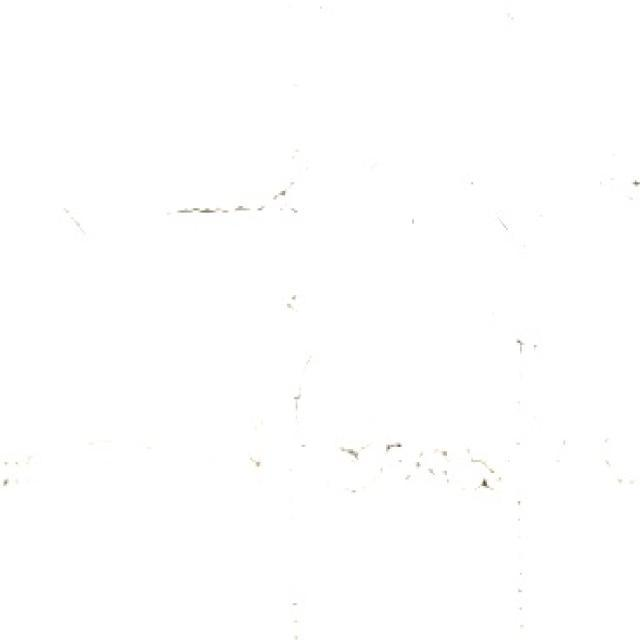crack: (275, 430, 508, 508), (162, 160, 314, 228)
